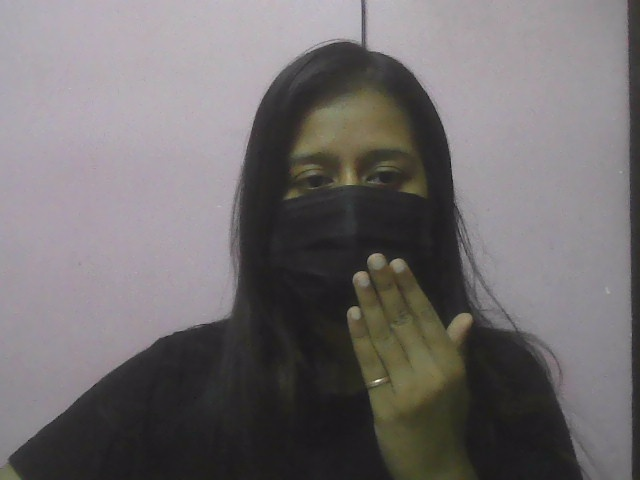Thank you: (288, 236, 522, 477)
